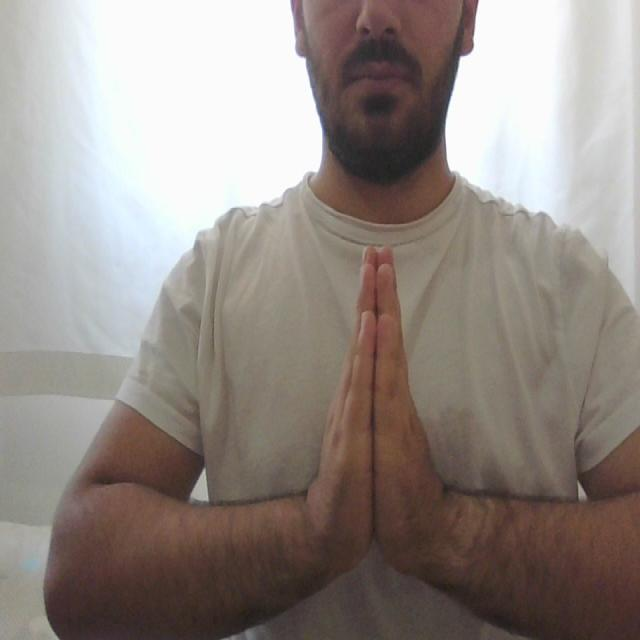Ozur-Dilemek: (309, 236, 459, 593)
